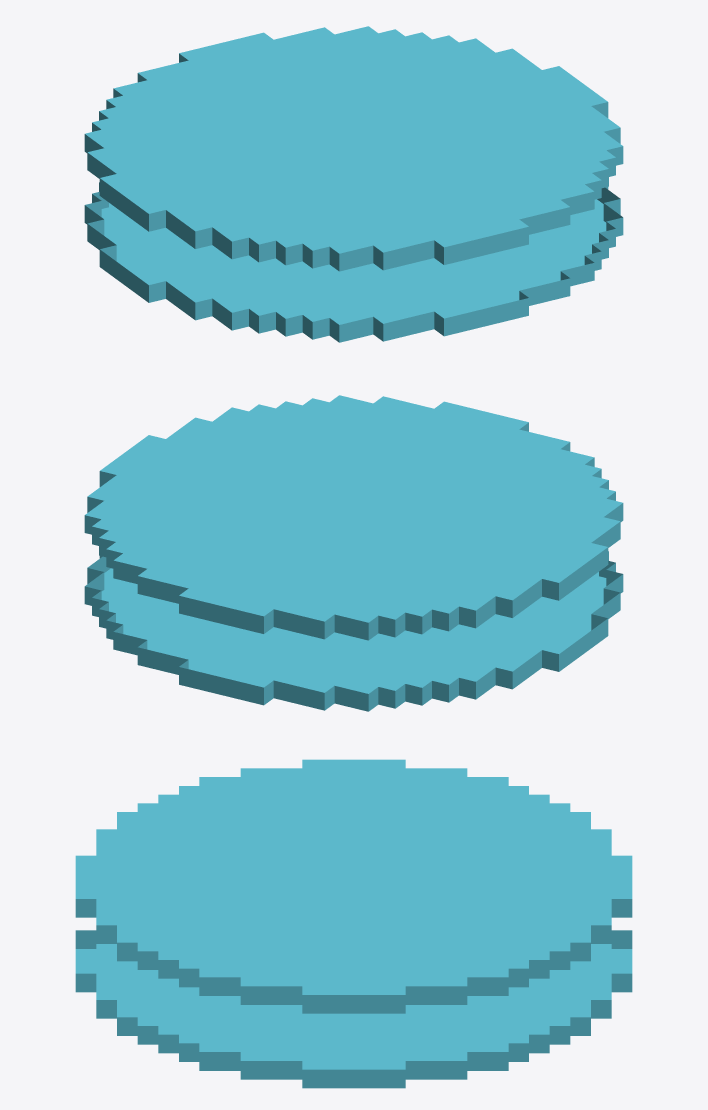
The model's file is OriginalCircle.fbx.
The picture shows the model from 3 angles, top to bottom: view 1: azimuth 30°, elevation 25°; view 2: azimuth 150°, elevation 25°; view 3: azimuth 270°, elevation 25°; orthographic projection. The views are drawn at different scales.
Visible parts, largest first — view 1: Untitled; view 2: Untitled; view 3: Untitled.
Part boxes in pixels (box(x1,y1,x2,y2)): Untitled: box(84, 26, 623, 342); Untitled: box(84, 395, 623, 711); Untitled: box(75, 759, 632, 1088).
Size of the model in its own units: 3.3 by 0.5 by 3.3.
